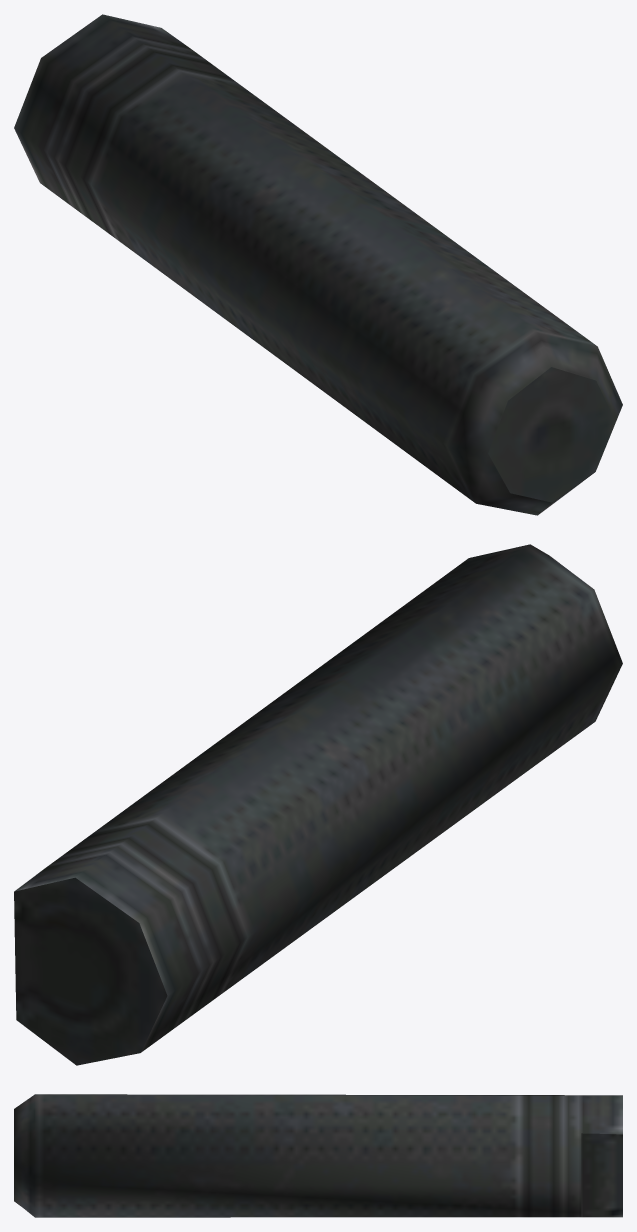
The model's file is Assault_Rifle_bq_xsq_01_lod1_Stock_LOD_(000164).glb.
3 renders of one model, top to bottom at view 1: azimuth 30°, elevation 25°; view 2: azimuth 150°, elevation 25°; view 3: azimuth 270°, elevation 25°, orthographic. The views are drawn at different scales.
Parts seen in each view (by area): view 1: bq_xsq_01_lod1; view 2: bq_xsq_01_lod1; view 3: bq_xsq_01_lod1.
Part boxes in pixels (x1=…): bq_xsq_01_lod1: x1=14, y1=14, x2=622, y2=515; bq_xsq_01_lod1: x1=14, y1=544, x2=622, y2=1065; bq_xsq_01_lod1: x1=14, y1=1094, x2=622, y2=1217.
Bounding box in the file's own units: 0.0509 × 0.0511 × 0.23.
Materials: 1 (1 with a texture image).
